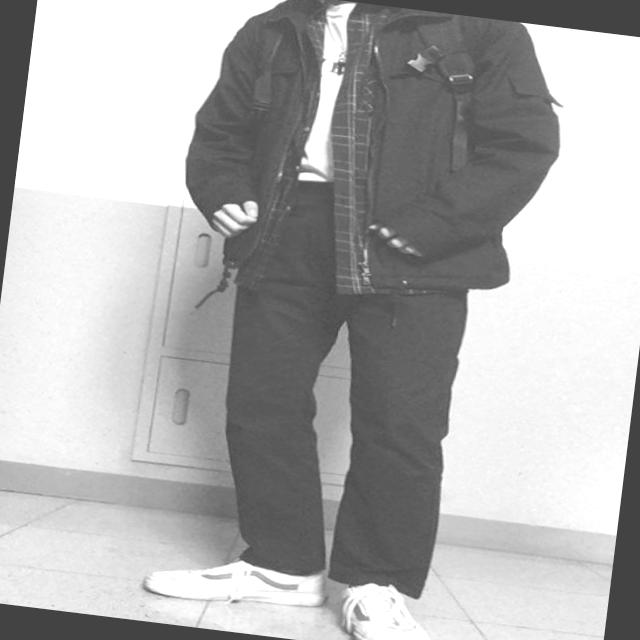denimpants: (188, 170, 481, 598)
jacket: (170, 0, 572, 305)
